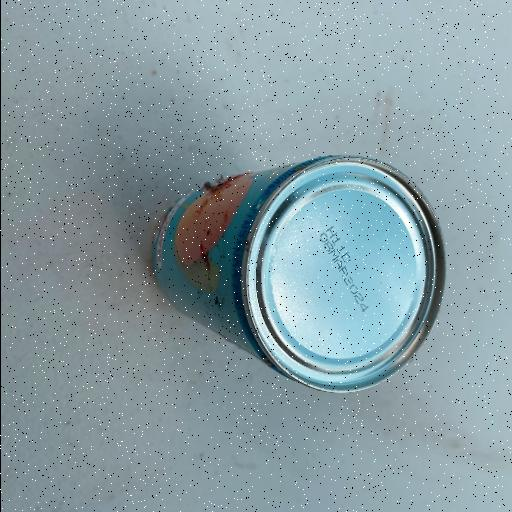Metal: (150, 152, 448, 396)
